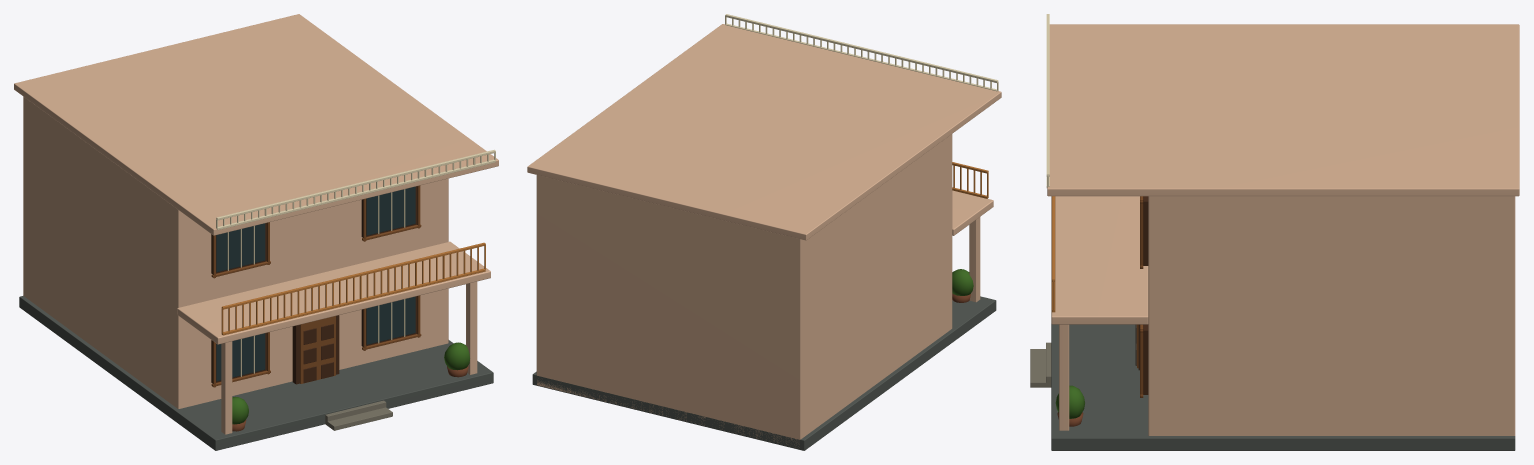
File: garden-bungalow.glb
3 renders of one model, left to right at view 1: azimuth 30°, elevation 25°; view 2: azimuth 150°, elevation 25°; view 3: azimuth 270°, elevation 25°, orthographic. The views are drawn at different scales.
Visible parts, largest first — view 1: Surface_Lime_plaster, Surface_Basalt, Surface_Recessed_glazing, Surface_Ochre_brick, Surface_Trim, Surface_Painted_joinery, Surface_Timber, Surface_Stone_paving, Surface_Foliage; view 2: Surface_Lime_plaster, Surface_Basalt, Surface_Trim, Surface_Ochre_brick, Surface_Foliage; view 3: Surface_Lime_plaster, Surface_Basalt, Surface_Timber, Surface_Stone_paving, Surface_Trim, Surface_Painted_joinery, Surface_Foliage.
Part boxes in pixels (x1,y1,x2,y2): Surface_Lime_plaster: [14, 14, 498, 434]; Surface_Basalt: [19, 296, 493, 450]; Surface_Recessed_glazing: [216, 186, 415, 381]; Surface_Ochre_brick: [221, 242, 485, 335]; Surface_Trim: [216, 149, 495, 376]; Surface_Painted_joinery: [211, 185, 421, 387]; Surface_Timber: [211, 186, 416, 384]; Surface_Stone_paving: [325, 400, 392, 430]; Surface_Foliage: [232, 342, 469, 424]; Surface_Lime_plaster: [527, 24, 1001, 447]; Surface_Basalt: [532, 296, 996, 450]; Surface_Trim: [725, 14, 998, 91]; Surface_Ochre_brick: [952, 162, 988, 198]; Surface_Foliage: [952, 269, 973, 295]; Surface_Lime_plaster: [1047, 24, 1519, 435]; Surface_Basalt: [1051, 324, 1515, 450]; Surface_Timber: [1135, 196, 1148, 394]; Surface_Stone_paving: [1030, 342, 1051, 387]; Surface_Trim: [1046, 14, 1049, 187]; Surface_Painted_joinery: [1137, 196, 1143, 397]; Surface_Foliage: [1055, 385, 1084, 418].
Bounding box in the file's own units: 9.24 × 7.24 × 11.6.
